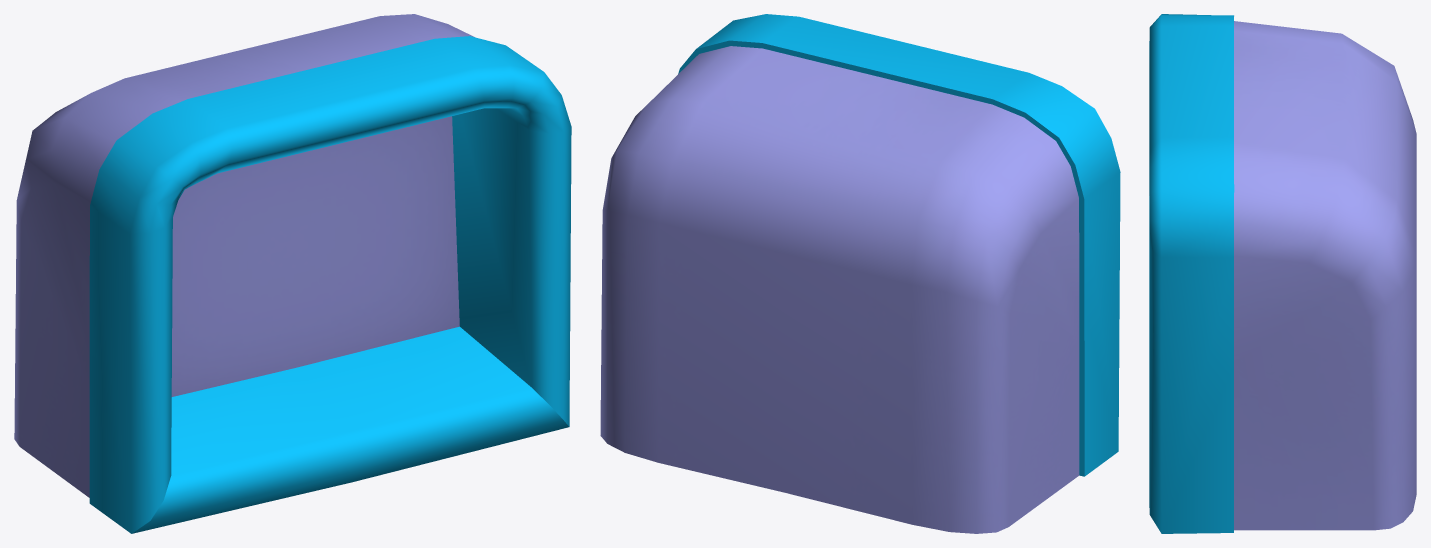
Rendered from model_DoorSpawn2.fbx.
The picture shows the model from 3 angles, left to right: view 1: azimuth 30°, elevation 25°; view 2: azimuth 150°, elevation 25°; view 3: azimuth 270°, elevation 25°; orthographic projection. The views are drawn at different scales.
Parts seen in each view (by area): view 1: model_DoorSpawn2; view 2: model_DoorSpawn2; view 3: model_DoorSpawn2.
Part boxes in pixels (x1,y1,x2,y2): model_DoorSpawn2: (14, 14, 571, 533); model_DoorSpawn2: (600, 14, 1120, 533); model_DoorSpawn2: (1149, 14, 1416, 533).
Bounding box in the file's own units: 96.85 × 80.13 × 54.74.
